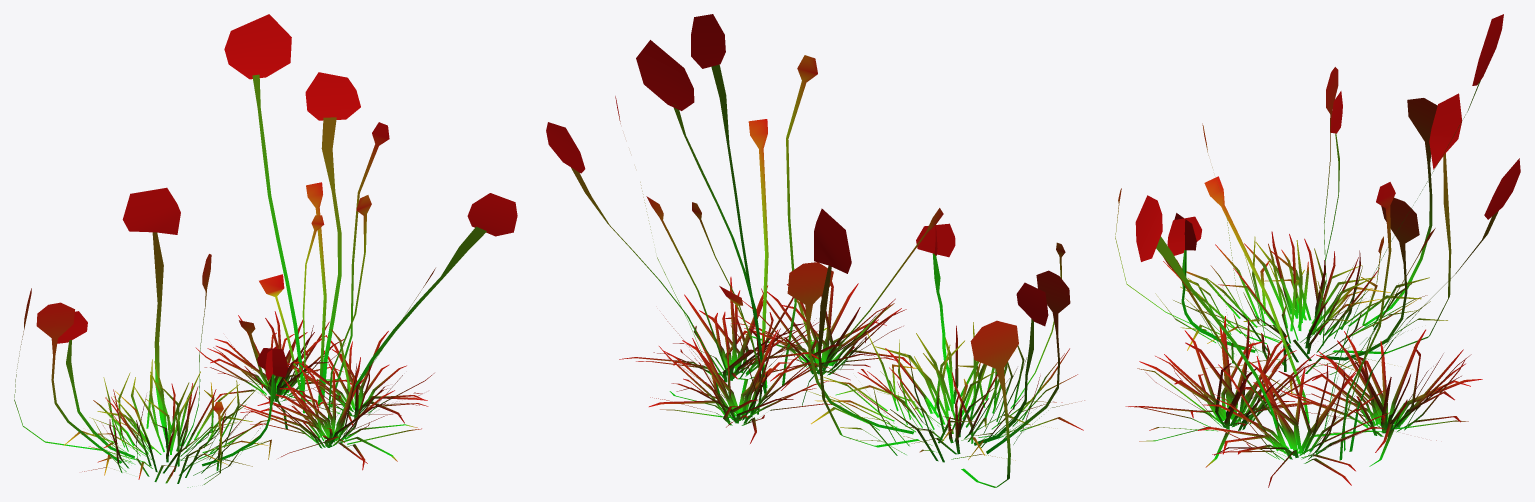
The model's file is Var6_LOD3.fbx.
3 views of the same model, side by side, from view 1: azimuth 30°, elevation 25°; view 2: azimuth 150°, elevation 25°; view 3: azimuth 270°, elevation 25° (orthographic). The views are drawn at different scales.
Visible parts, largest first — view 1: _o26a_Var6_LOD3; view 2: _o26a_Var6_LOD3; view 3: _o26a_Var6_LOD3.
Boxes of the visible parts, x1,y1,x2,y2 form: _o26a_Var6_LOD3: (14, 14, 517, 487); _o26a_Var6_LOD3: (546, 14, 1084, 487); _o26a_Var6_LOD3: (1115, 14, 1520, 487).
Size of the model in its own units: 24.61 by 20.55 by 17.16.
